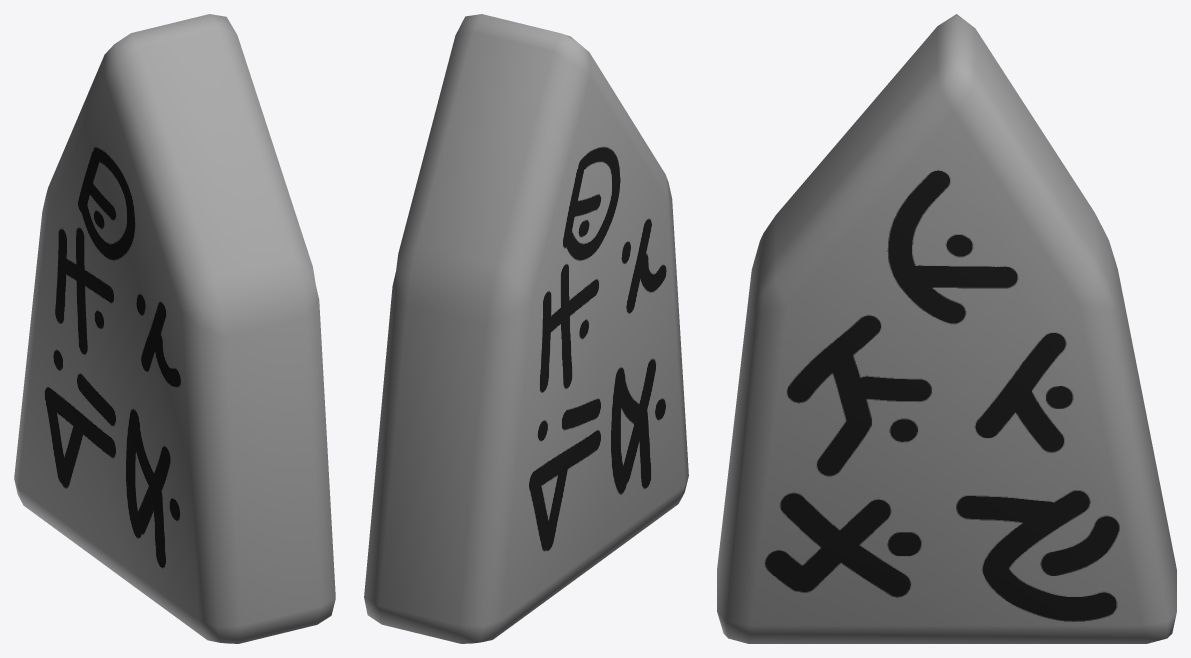
The model's file is stone 1.fbx.
3 renders of one model, left to right at view 1: azimuth 30°, elevation 25°; view 2: azimuth 150°, elevation 25°; view 3: azimuth 270°, elevation 25°, orthographic. The views are drawn at different scales.
Parts seen in each view (by area): view 1: stone 1; view 2: stone 1; view 3: stone 1.
Boxes of the visible parts, x1,y1,x2,y2 form: stone 1: (14, 14, 335, 643); stone 1: (364, 14, 688, 643); stone 1: (717, 14, 1176, 643).
Bounding box in the file's own units: 83.4 × 324 × 231.
